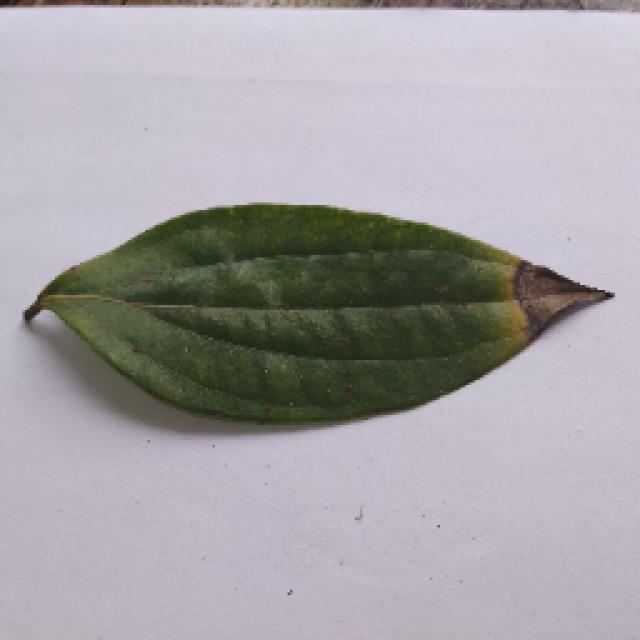footrot: (20, 203, 612, 415)
